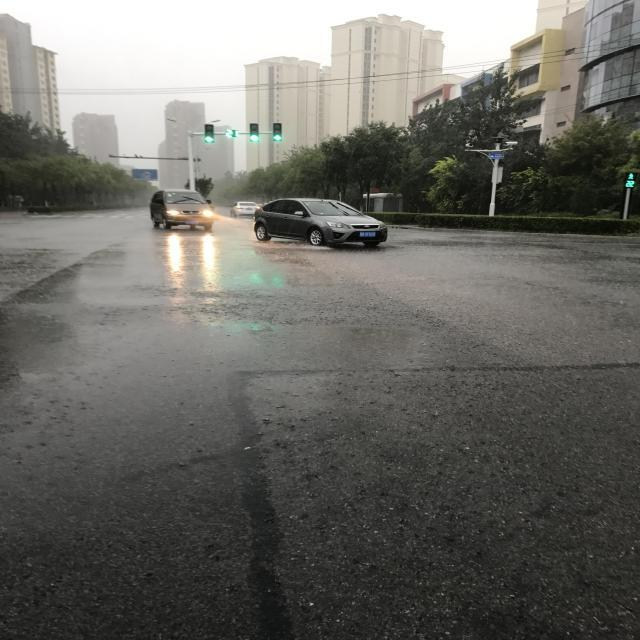car: (198, 246, 248, 385), (187, 421, 229, 494), (200, 380, 217, 410)
